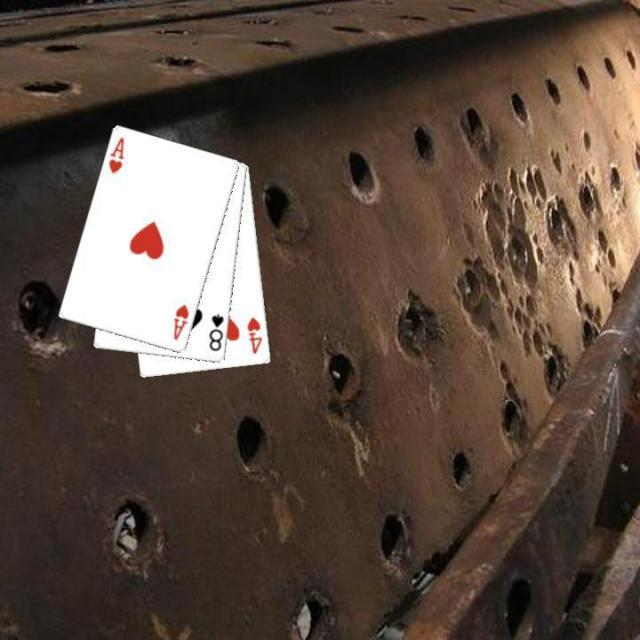4H: (243, 314, 264, 356)
8S: (206, 310, 226, 353)
AH: (170, 300, 192, 342), (105, 133, 126, 176)
